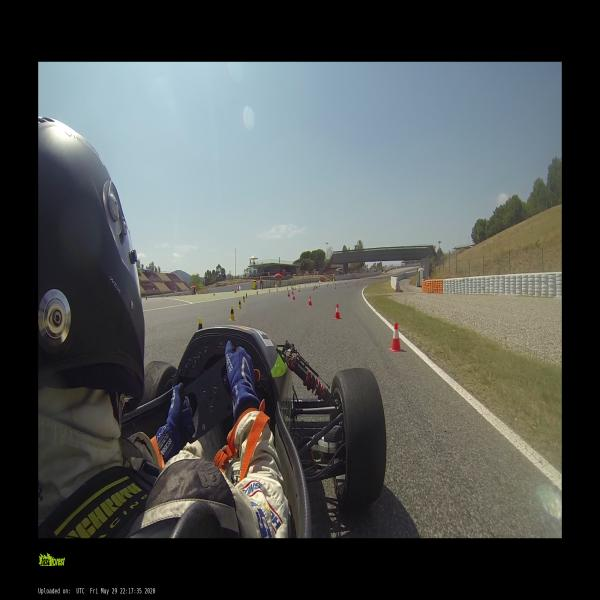orange_cone: (390, 322, 403, 352), (333, 304, 341, 320), (308, 296, 312, 306), (293, 292, 295, 300), (288, 291, 290, 297), (292, 290, 293, 294)
yellow_cone: (229, 306, 235, 320), (198, 318, 202, 330), (238, 299, 242, 309), (242, 294, 246, 302), (246, 292, 248, 298), (256, 290, 258, 295), (276, 287, 278, 292), (268, 288, 270, 292)
